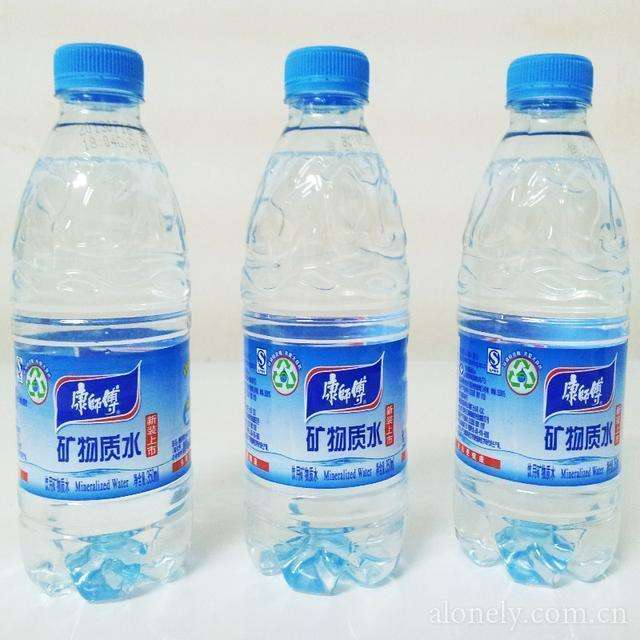amwater: (1, 22, 216, 613), (234, 19, 428, 620), (445, 22, 635, 609)
